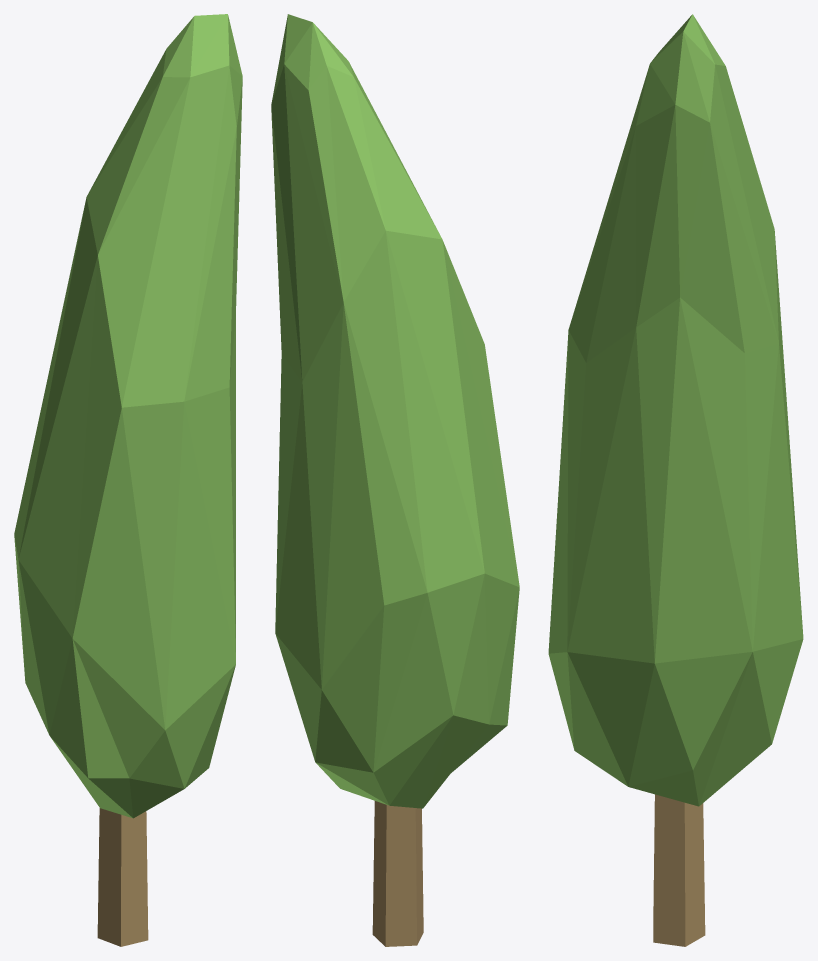
Rendered from Thuja_Tree_m_08.fbx.
3 views of the same model, side by side, from view 1: azimuth 30°, elevation 25°; view 2: azimuth 150°, elevation 25°; view 3: azimuth 270°, elevation 25° (orthographic). The views are drawn at different scales.
Visible parts, largest first — view 1: Thuja_Tree_m_08; view 2: Thuja_Tree_m_08; view 3: Thuja_Tree_m_08.
Part boxes in pixels (x1,y1,x2,y2): Thuja_Tree_m_08: (14,14,242,946); Thuja_Tree_m_08: (271,14,519,946); Thuja_Tree_m_08: (548,14,803,946).
Size of the model in its own units: 123 by 492 by 118.
